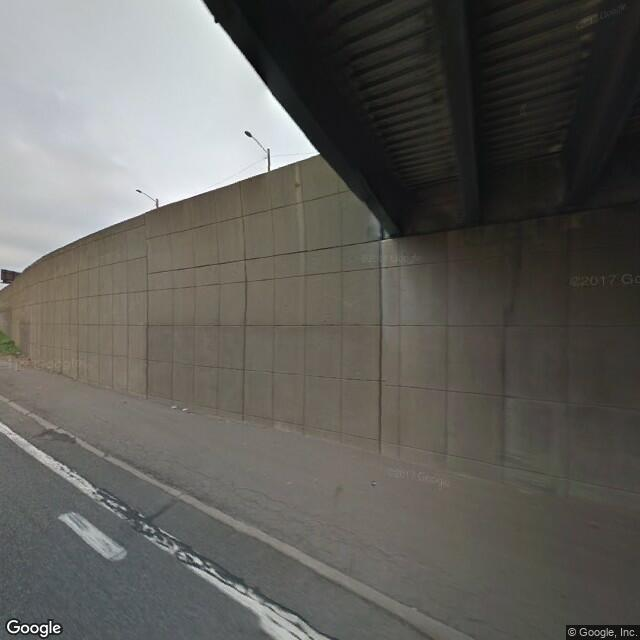litter: (171, 400, 193, 414), (207, 414, 218, 420)
